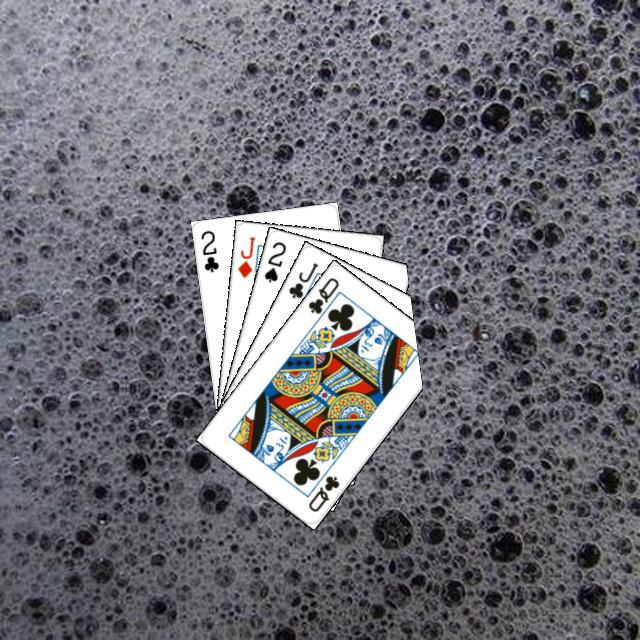2c: (196, 226, 220, 274)
2s: (259, 237, 288, 284)
Jc: (284, 258, 320, 300)
Jd: (233, 232, 257, 280)
Qc: (303, 272, 344, 324), (303, 471, 341, 514)
